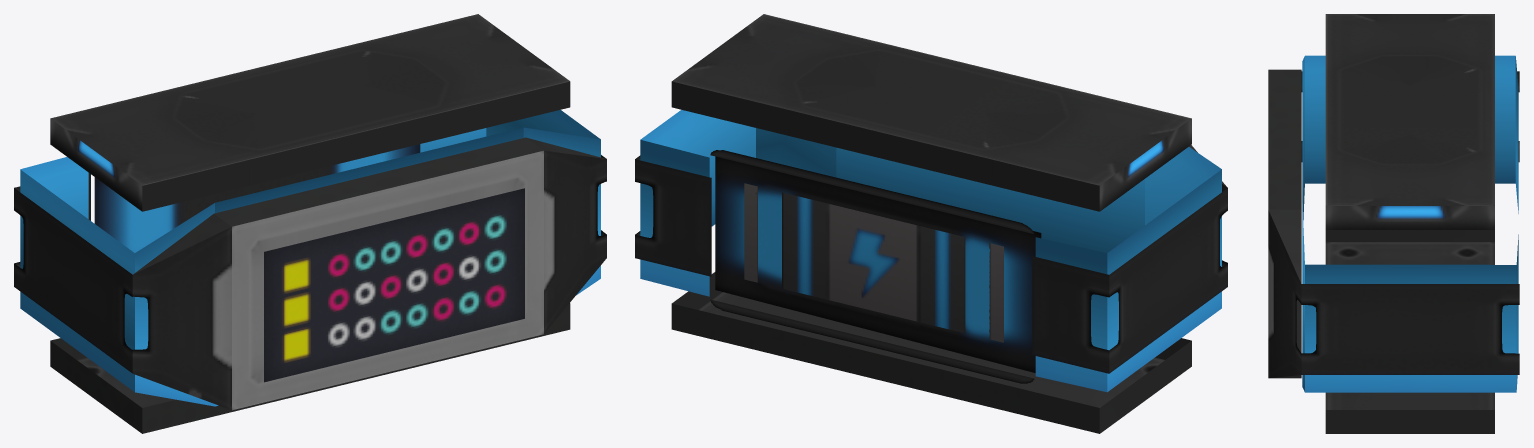
The model's file is obj_interactive_controller_05_lod1.fbx.
3 renders of one model, left to right at view 1: azimuth 30°, elevation 25°; view 2: azimuth 150°, elevation 25°; view 3: azimuth 270°, elevation 25°, orthographic. The views are drawn at different scales.
Parts seen in each view (by area): view 1: obj_interactive_controller_06; view 2: obj_interactive_controller_06; view 3: obj_interactive_controller_06.
Part boxes in pixels (bbox=[...]): obj_interactive_controller_06: bbox=[14, 14, 606, 433]; obj_interactive_controller_06: bbox=[635, 14, 1227, 433]; obj_interactive_controller_06: bbox=[1268, 14, 1519, 433].
Size of the model in its own units: 2 by 1.02 by 1.05.
Materials: 1 (1 with a texture image).
